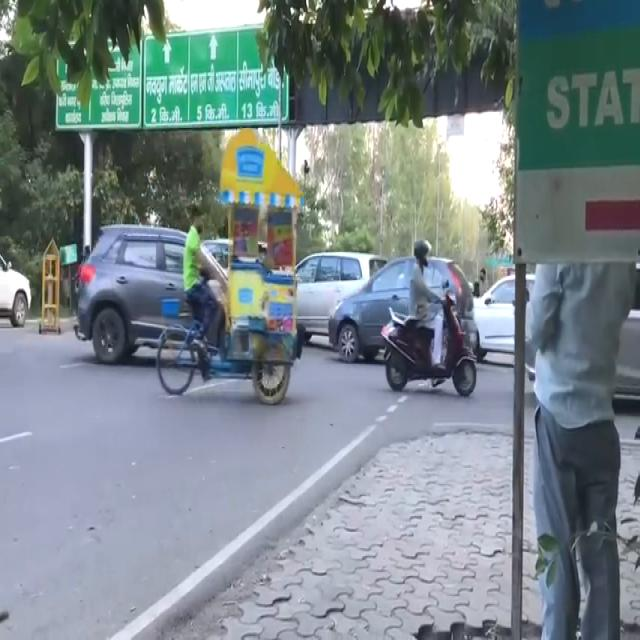MOTORCYCLE: (380, 301, 479, 397)
